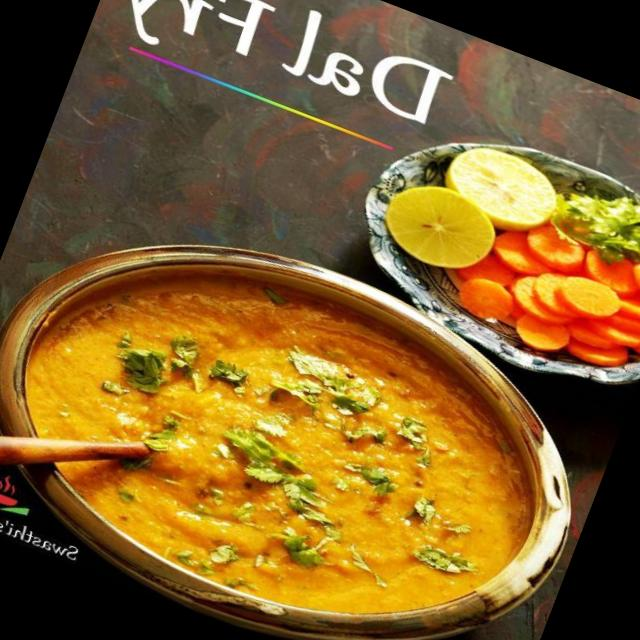dal: (0, 201, 583, 640)
